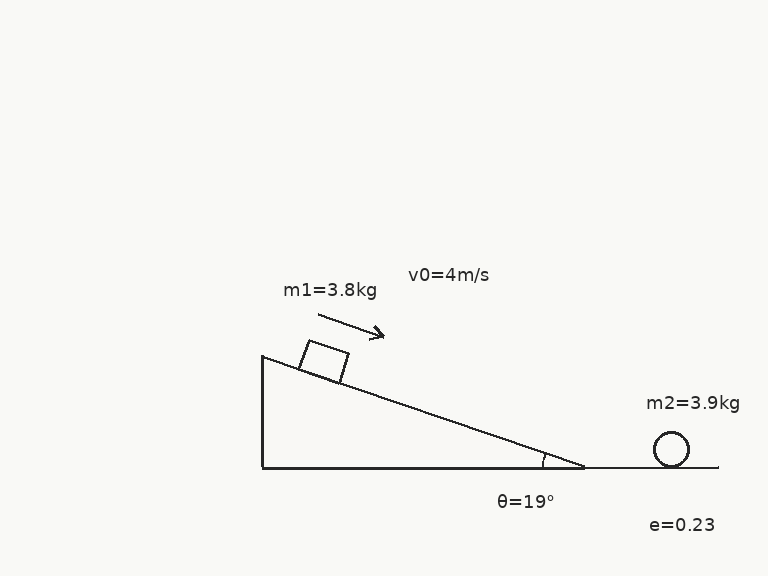ball: (651, 429, 691, 469)
block: (297, 338, 350, 385)
ramp: (260, 354, 585, 469)
